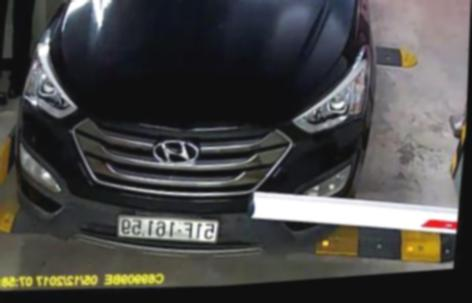License_Plate: (107, 204, 222, 252)
